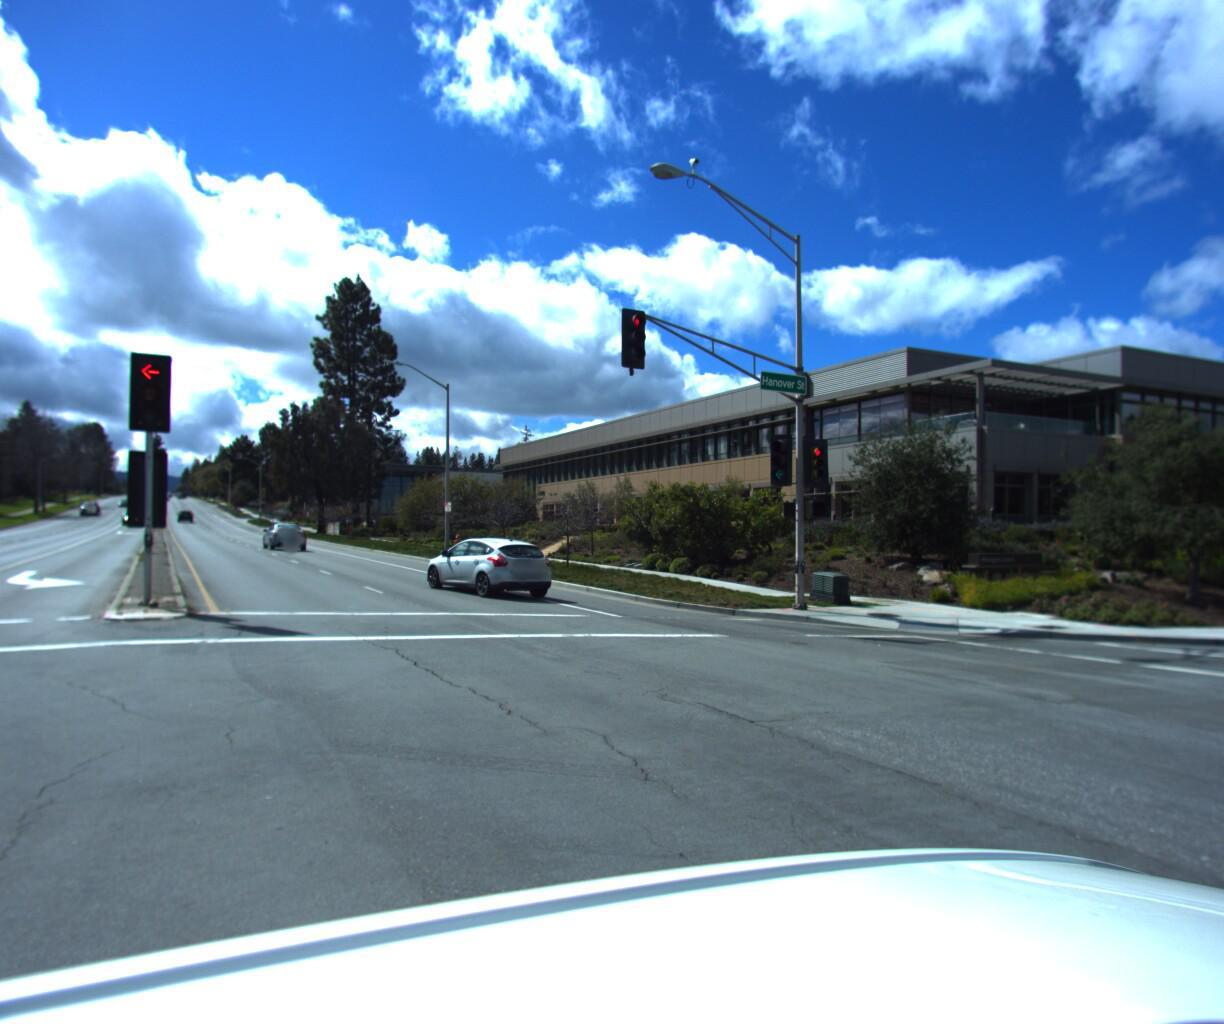car: (414, 544, 564, 608), (264, 527, 313, 556)
